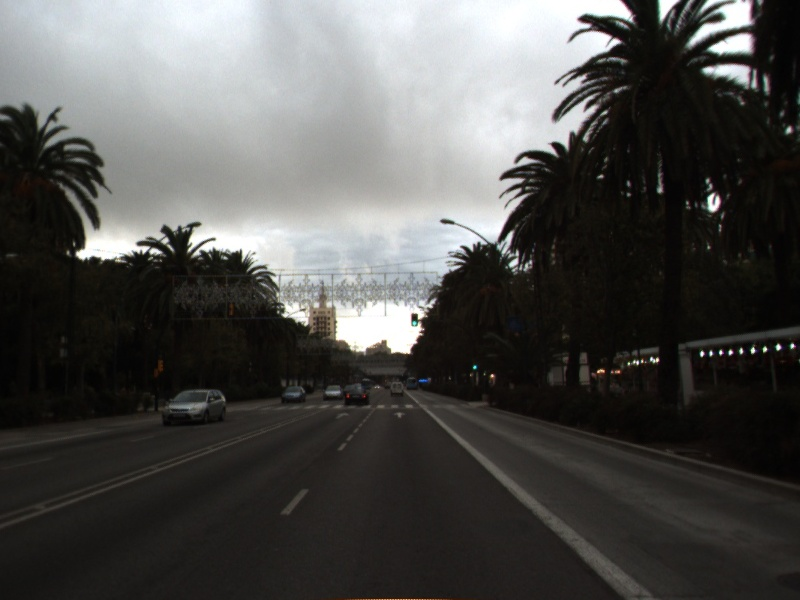STRAIGHT: (333, 410, 352, 421), (391, 410, 408, 420)
